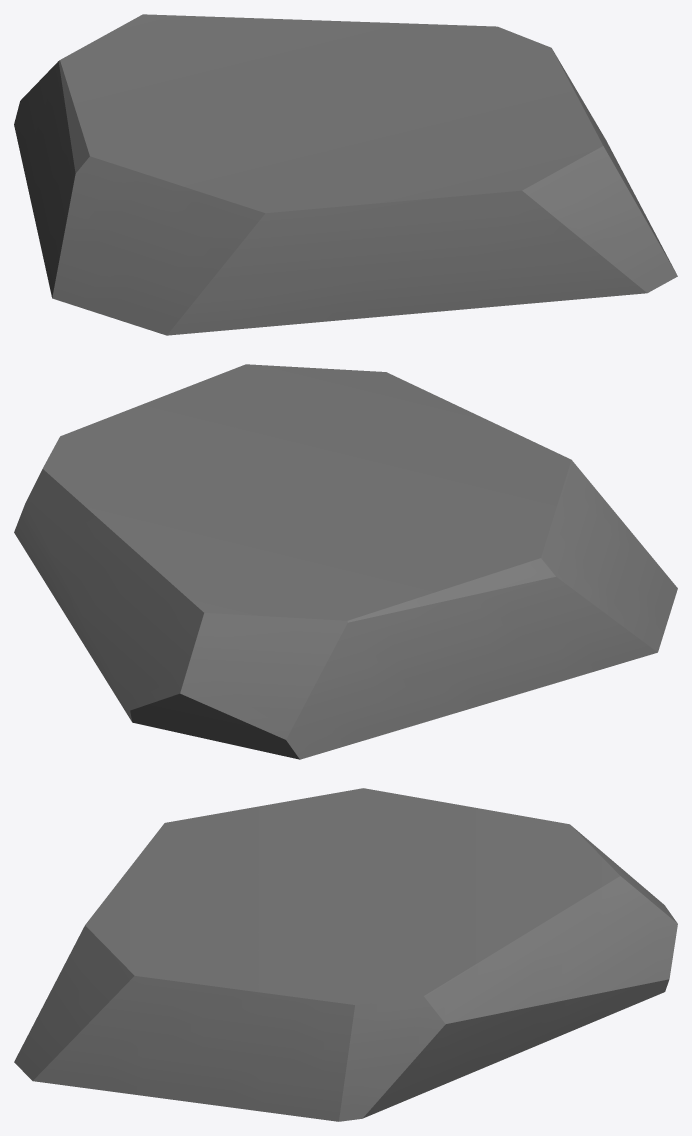
The model's file is SmallRock_08.fbx.
3 views of the same model, one above another, from view 1: azimuth 30°, elevation 25°; view 2: azimuth 150°, elevation 25°; view 3: azimuth 270°, elevation 25° (orthographic). The views are drawn at different scales.
Visible parts, largest first — view 1: small_rock_08; view 2: small_rock_08; view 3: small_rock_08.
Boxes of the visible parts, x1,y1,x2,y2 form: small_rock_08: (14, 14, 677, 335); small_rock_08: (14, 364, 677, 759); small_rock_08: (14, 788, 677, 1121).
Bounding box in the file's own units: 370 × 59.8 × 379.
Materials: 1 (1 with a texture image).
